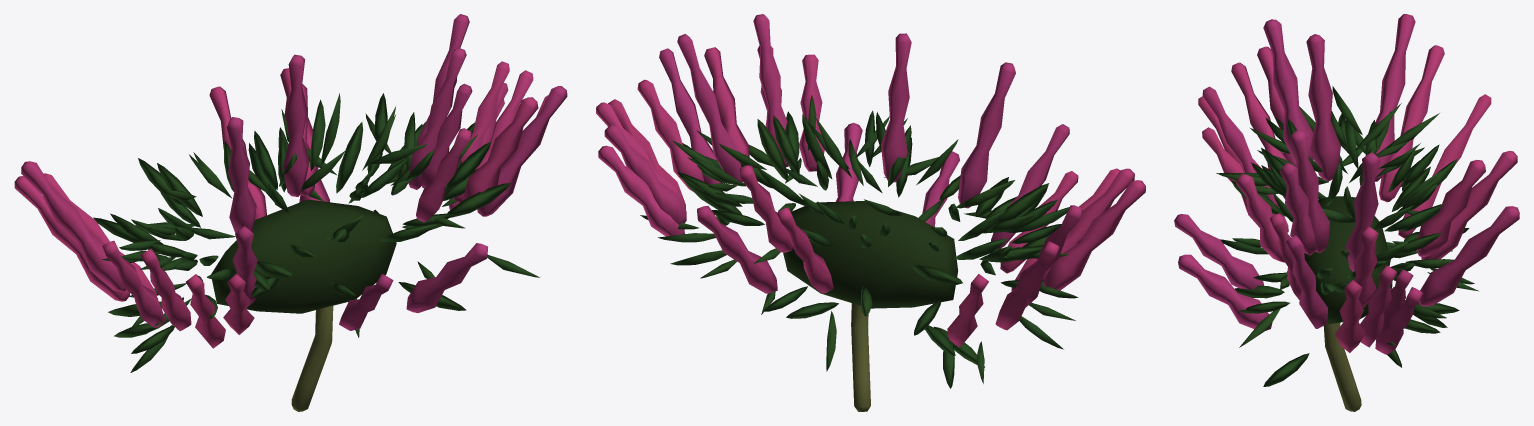
The model's file is box_heather.glb.
The picture shows the model from 3 angles, left to right: view 1: azimuth 30°, elevation 25°; view 2: azimuth 150°, elevation 25°; view 3: azimuth 270°, elevation 25°; orthographic projection. The views are drawn at different scales.
Visible parts, largest first — view 1: Sammel Pflanze, Sammel Blatt, Sammel Putz; view 2: Sammel Pflanze, Sammel Blatt, Sammel Putz; view 3: Sammel Pflanze, Sammel Blatt, Sammel Putz.
Part boxes in pixels (x1,y1,x2,y2): Sammel Pflanze: (14,14,567,372); Sammel Blatt: (211,199,396,313); Sammel Putz: (291,305,333,411); Sammel Pflanze: (596,14,1145,388); Sammel Blatt: (783,201,957,308); Sammel Putz: (851,303,870,411); Sammel Pflanze: (1174,14,1519,386); Sammel Blatt: (1304,196,1390,324); Sammel Putz: (1323,322,1361,411).
Bounding box in the file's own units: 0.3215 × 0.2264 × 0.1945.
